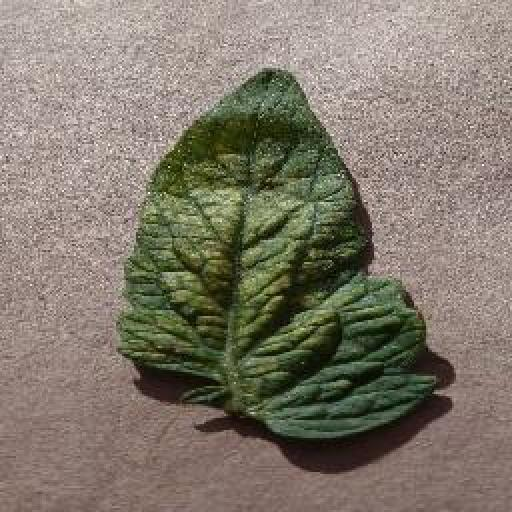disease_tomato: (120, 65, 439, 439)
